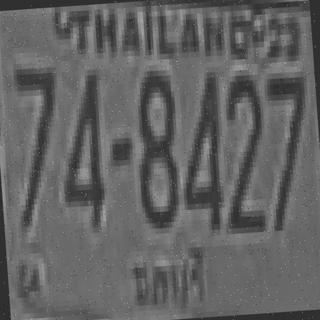N02: (218, 69, 268, 228)
N04: (54, 66, 108, 226), (175, 67, 225, 226)
N07: (10, 61, 64, 227), (262, 68, 312, 228)
N08: (130, 67, 180, 226)
P13: (128, 242, 213, 315)
